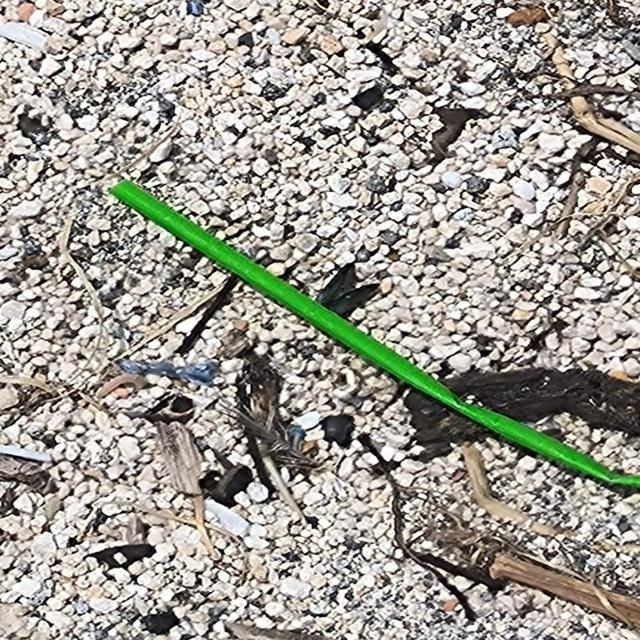plastic_waste: (106, 177, 640, 489)
